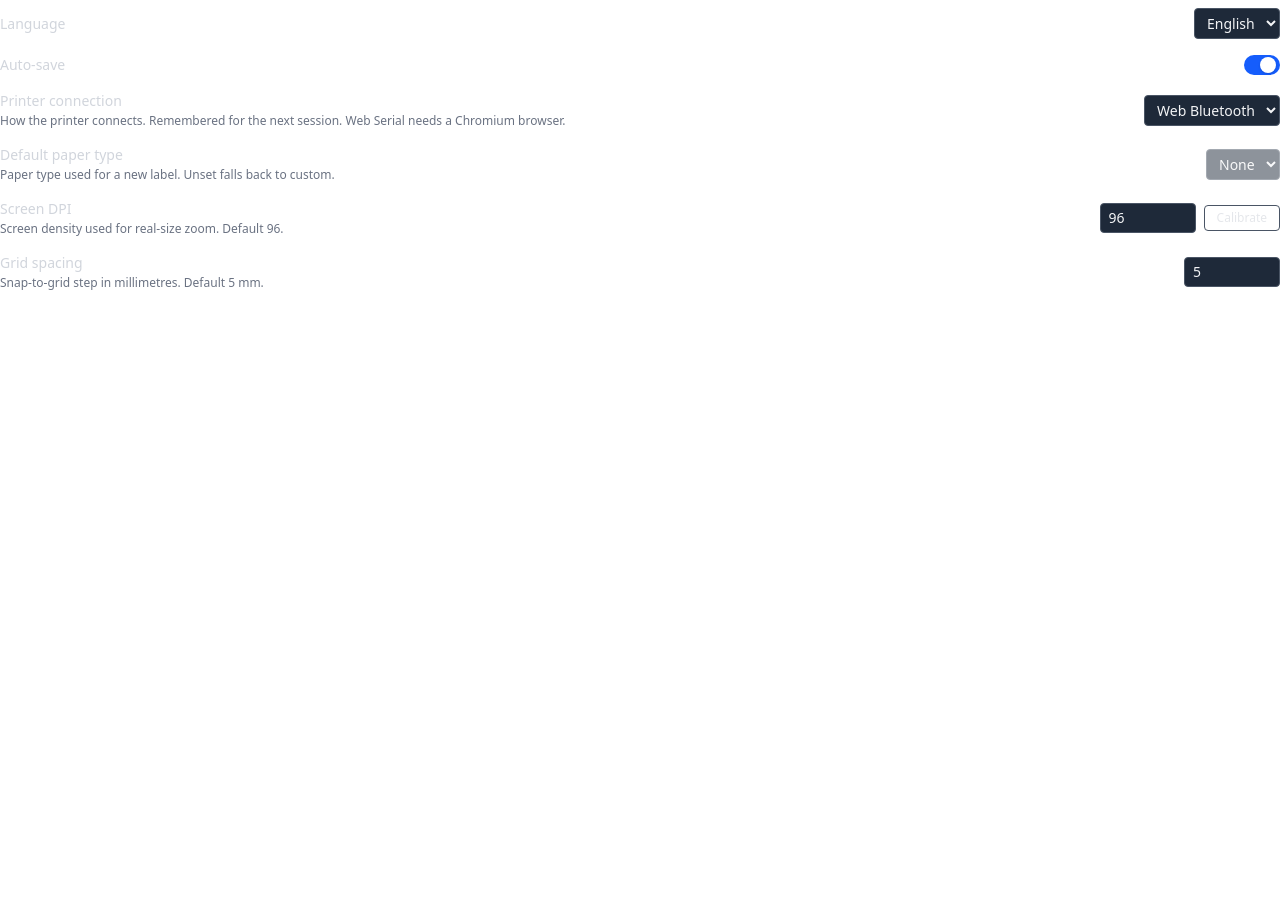
Test: GeneralSection calibration dialog (P7 #11) › drives the shared store value from the dialog
Click the button "Calibrate".
click(1242, 218)  # box [1204, 205, 1279, 231]
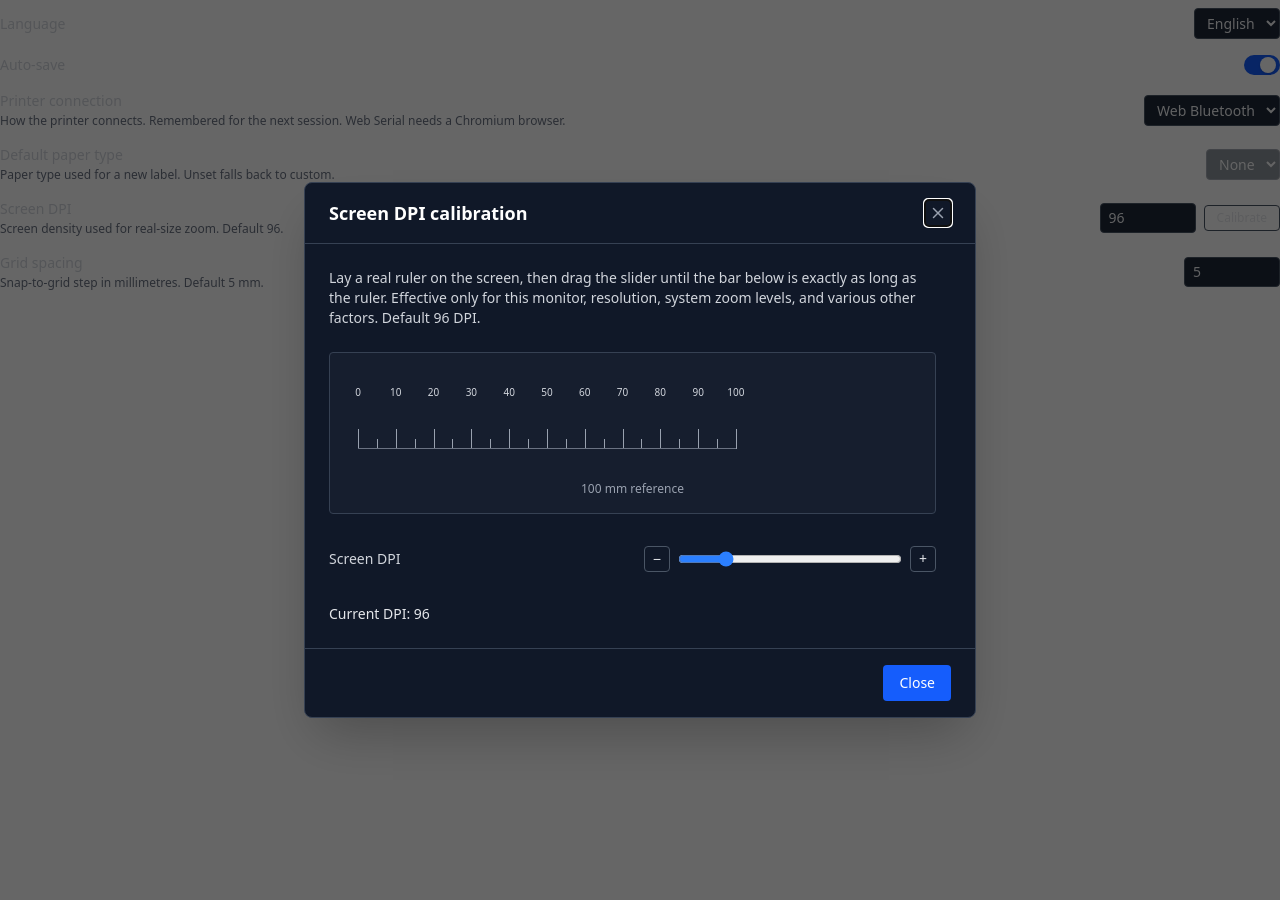
Set the slider to "120" at (739, 559), box [678, 551, 902, 567]
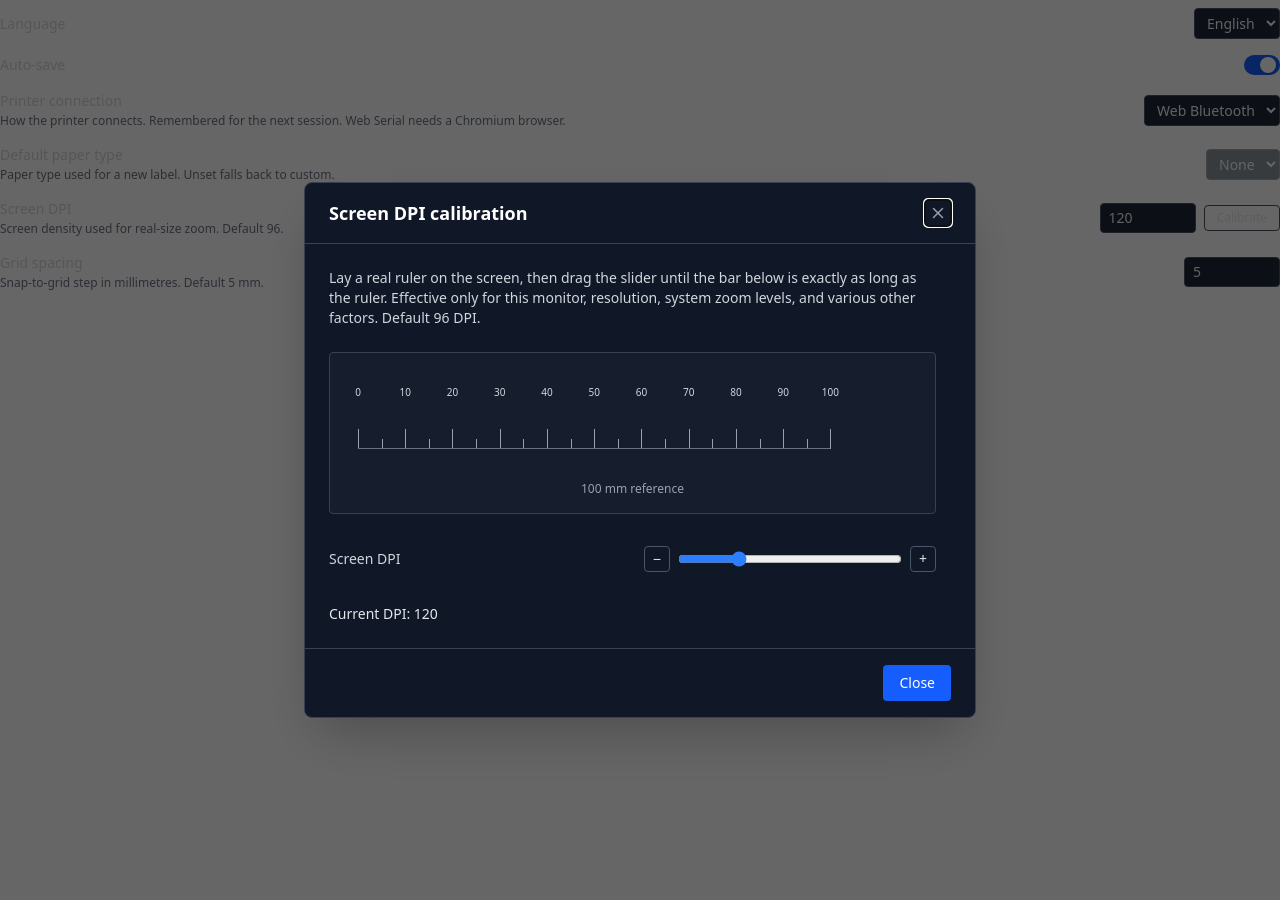
expect the number field labelled "Screen DPI" holds "120": met, box [1100, 203, 1196, 233]
